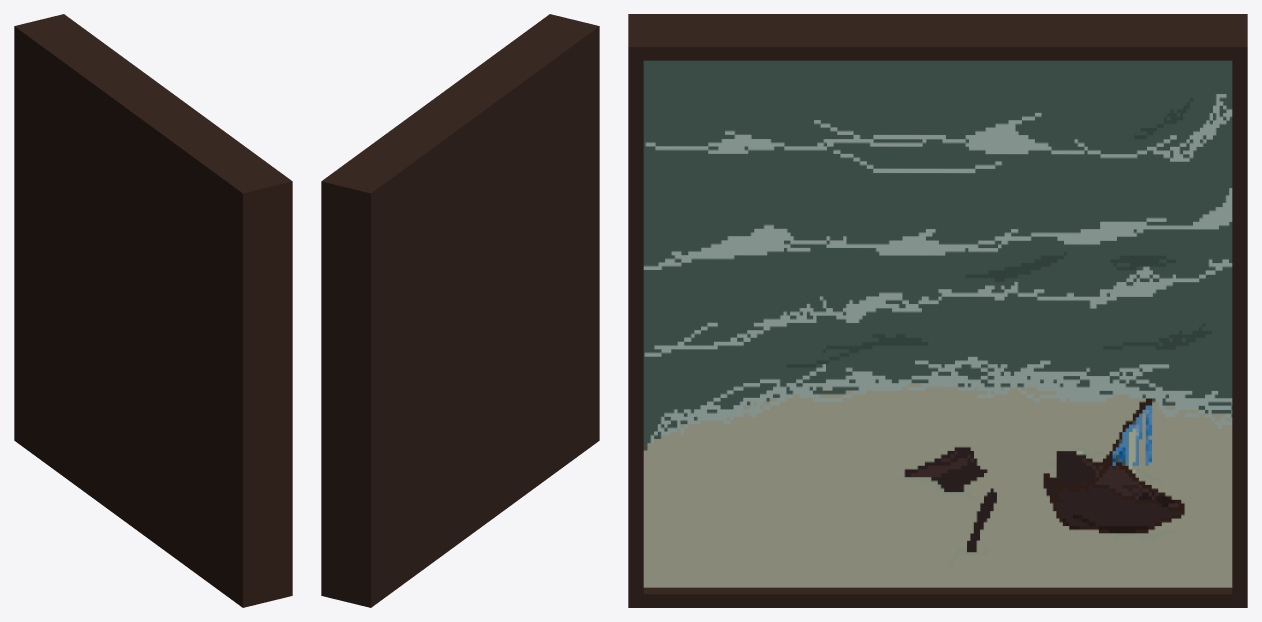
The model's file is PiratePainting.fbx.
3 renders of one model, left to right at view 1: azimuth 30°, elevation 25°; view 2: azimuth 150°, elevation 25°; view 3: azimuth 270°, elevation 25°, orthographic. The views are drawn at different scales.
Parts seen in each view (by area): view 1: Cube.095; view 2: Cube.095; view 3: Cube.095.
Part boxes in pixels (x1,y1,x2,y2): Cube.095: (14,14,292,607); Cube.095: (321,14,599,607); Cube.095: (628,14,1247,607).
Bounding box in the file's own units: 25.11 × 200 × 200.
